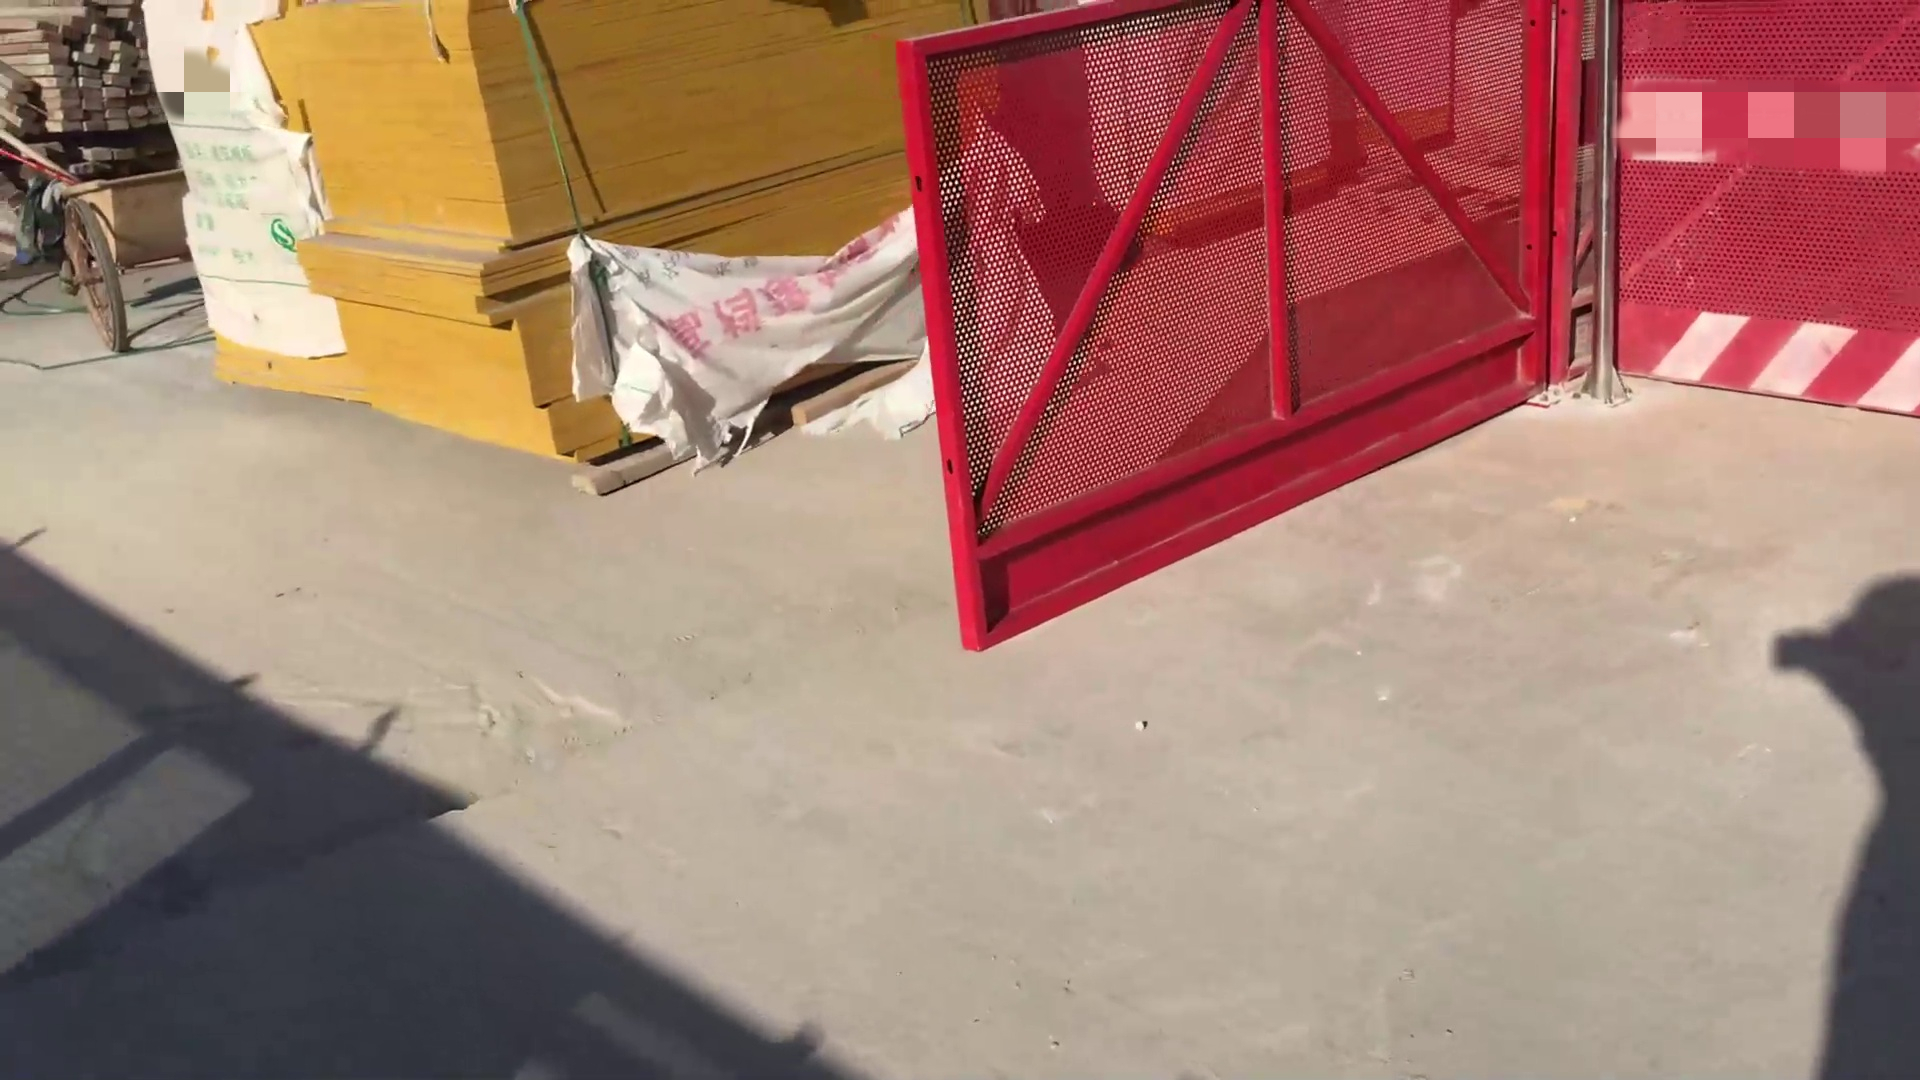board: (152, 1, 916, 476)
fence: (913, 1, 1590, 658), (1621, 15, 1920, 404)
handcart: (47, 167, 189, 357)
wood: (1, 8, 190, 135)
